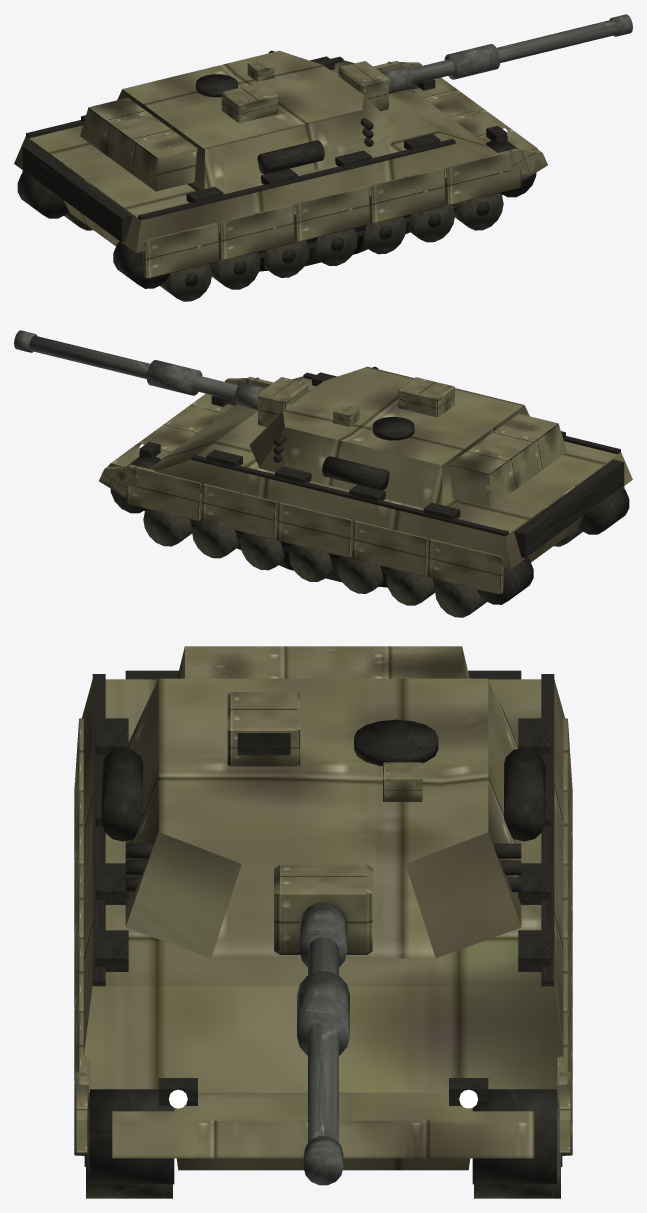
Rendered from unit_scorpion_0.glb.
The picture shows the model from 3 angles, top to bottom: view 1: azimuth 30°, elevation 25°; view 2: azimuth 150°, elevation 25°; view 3: azimuth 270°, elevation 25°; orthographic projection. The views are drawn at different scales.
Parts seen in each view (by area): view 1: unit_scorpion_0; view 2: unit_scorpion_0; view 3: unit_scorpion_0.
Part boxes in pixels (<box>): unit_scorpion_0: <box>14,14,632,301</box>; unit_scorpion_0: <box>14,330,632,617</box>; unit_scorpion_0: <box>74,646,572,1198</box>.
Bounding box in the file's own units: 8.2 × 2.15 × 3.18.
6 materials, 5 textured.
